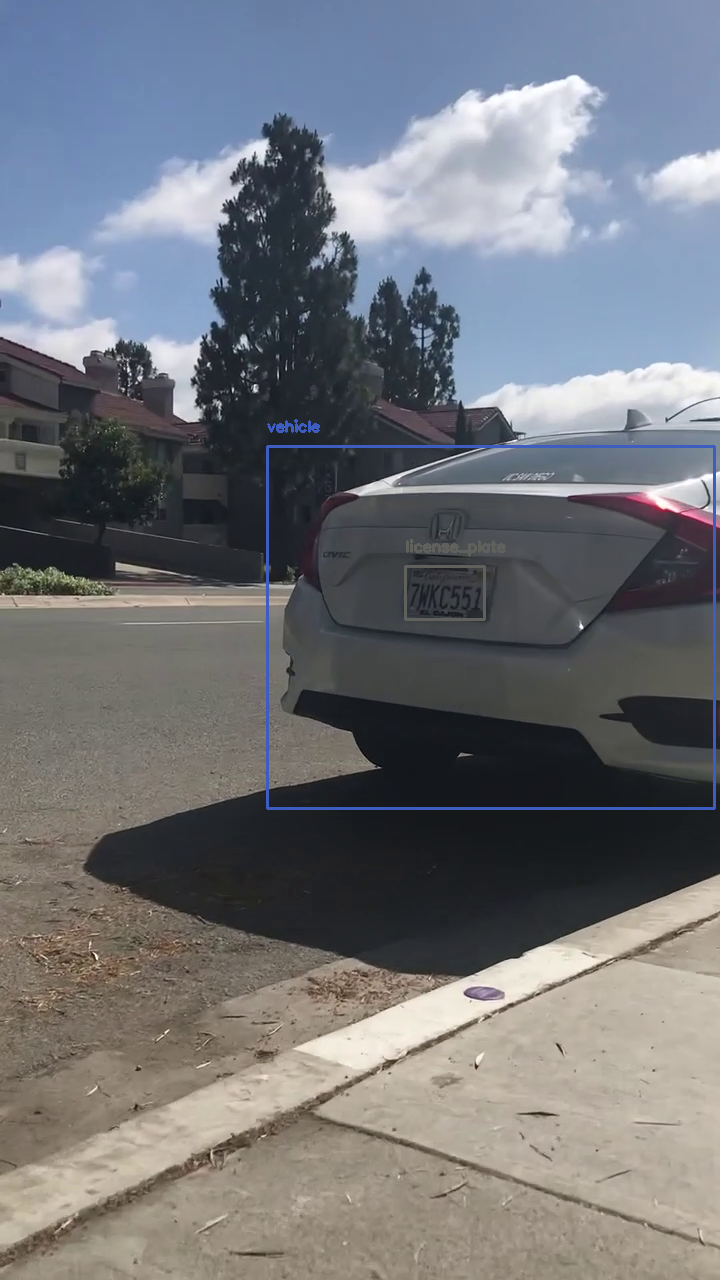license_plate: (405, 566, 484, 619)
vehicle: (267, 446, 714, 808)
